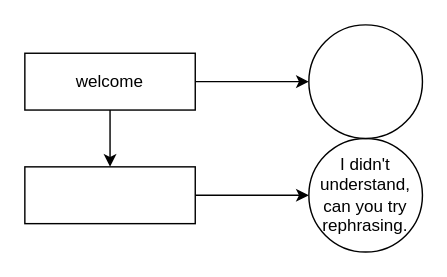
The diagram is 447 pixels wide and 277 high, and some of its shapes have lost their labels. The box of each missing label's shape, as (x1, y1, x2, y2) in pixels:
anything_else: (23, 165, 195, 224)
Welcome, how can I help you?: (307, 23, 422, 138)
